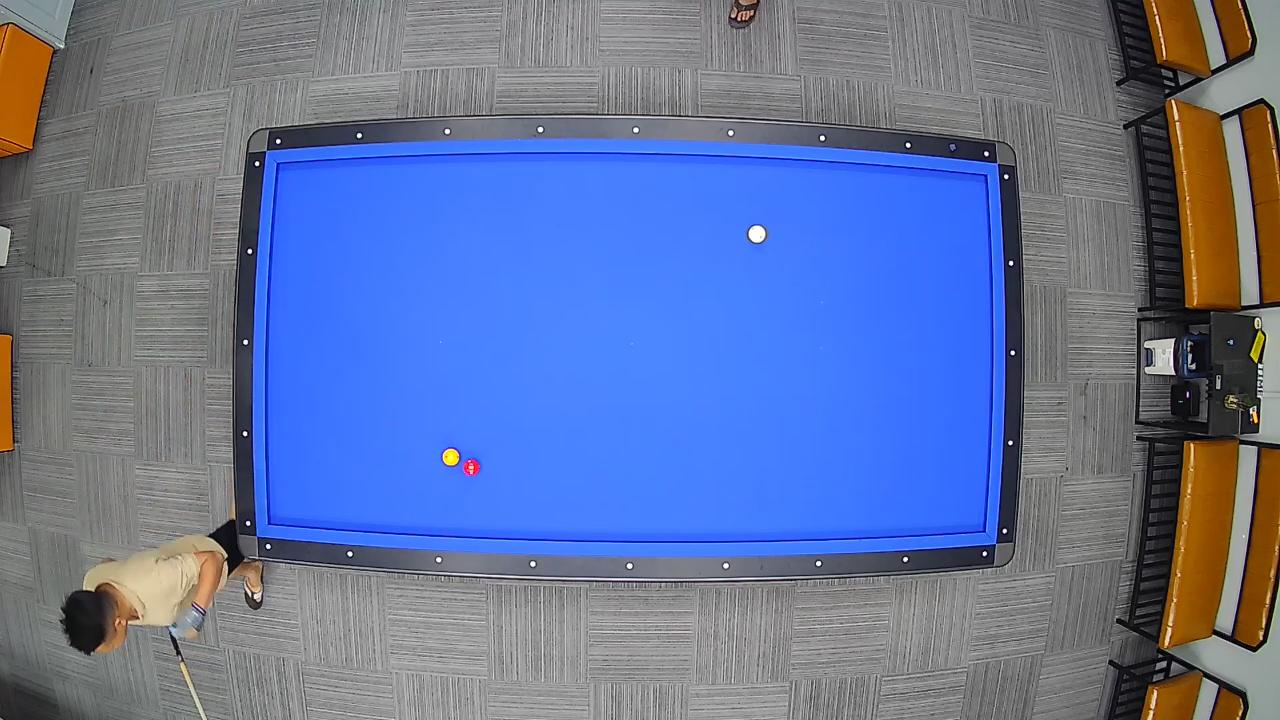Red: (462, 458, 481, 478)
White: (746, 223, 768, 245)
Yellow: (440, 446, 460, 467)
